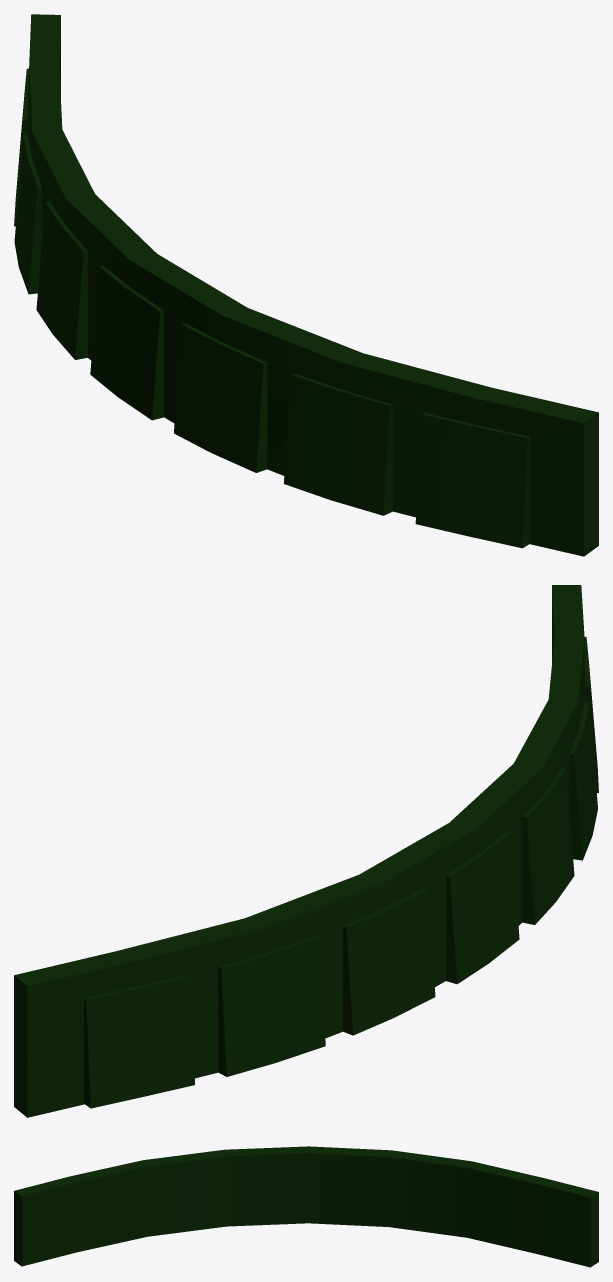
File: curved-wall-base5.fbx
The picture shows the model from 3 angles, top to bottom: view 1: azimuth 30°, elevation 25°; view 2: azimuth 150°, elevation 25°; view 3: azimuth 270°, elevation 25°; orthographic projection. The views are drawn at different scales.
Parts seen in each view (by area): view 1: curved-wall-base5; view 2: curved-wall-base5; view 3: curved-wall-base5.
Part boxes in pixels (left/top/right/bottom): curved-wall-base5: left=14, top=14, right=598, bottom=556; curved-wall-base5: left=14, top=585, right=598, bottom=1117; curved-wall-base5: left=14, top=1146, right=598, bottom=1267.
Size of the model in its own units: 5.2 by 3.12 by 23.63.
